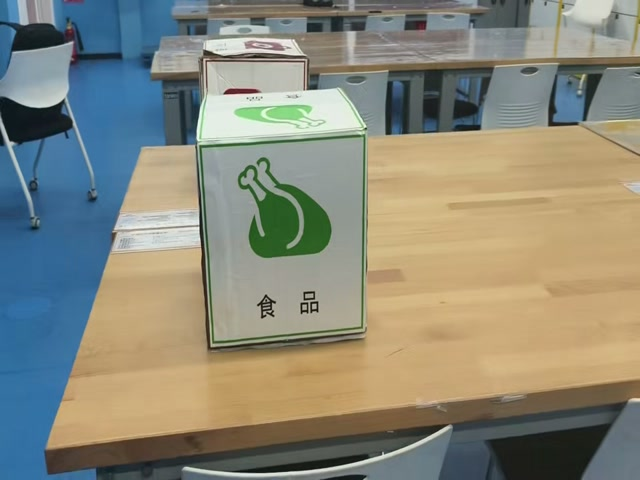Cube_food: (198, 89, 366, 148)
Cube_medicine: (202, 35, 308, 68)
